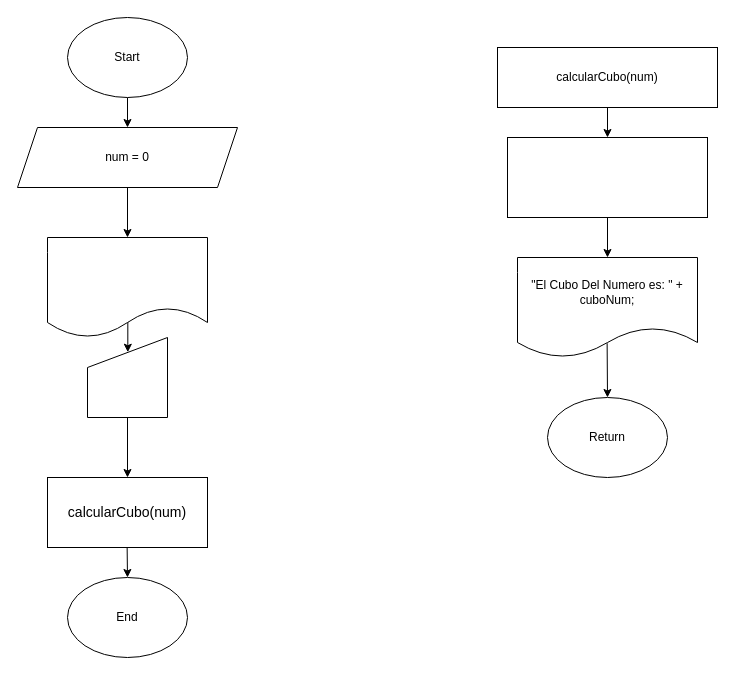
This 735x675 diagram has some shape labels left out. The shapes that lost their labels are listed below. From the top down, each one's box as (x1, y1, x2, y2) in pixels, then its label:
(506, 136, 708, 218): cuboNum = Math.pow(num,3)
(46, 236, 208, 338): "Digite un num"
(86, 336, 168, 418): num
